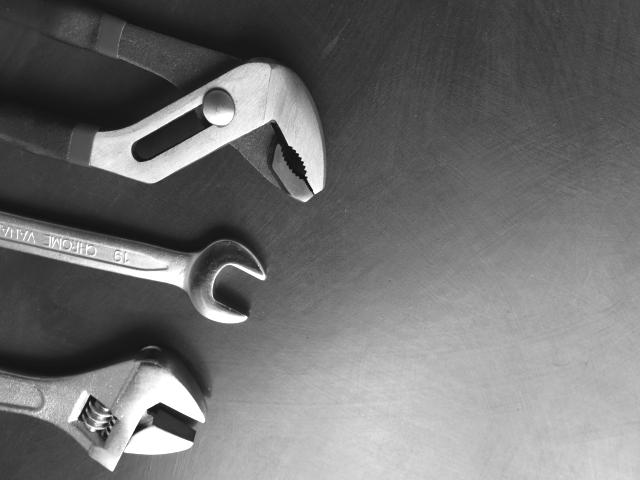Adjustable spanner: (0, 345, 206, 472)
Gas wrench: (0, 0, 326, 202)
Wrench: (0, 211, 266, 322)
